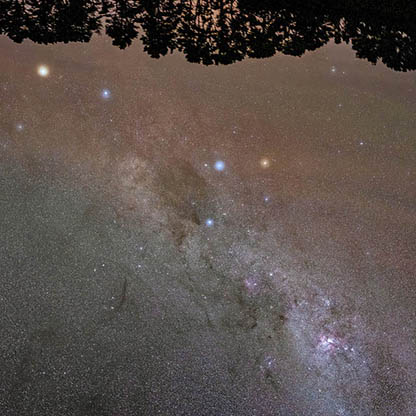Southern Cross: (197, 209, 219, 233), (254, 149, 276, 172), (210, 156, 231, 176), (256, 192, 273, 207)
